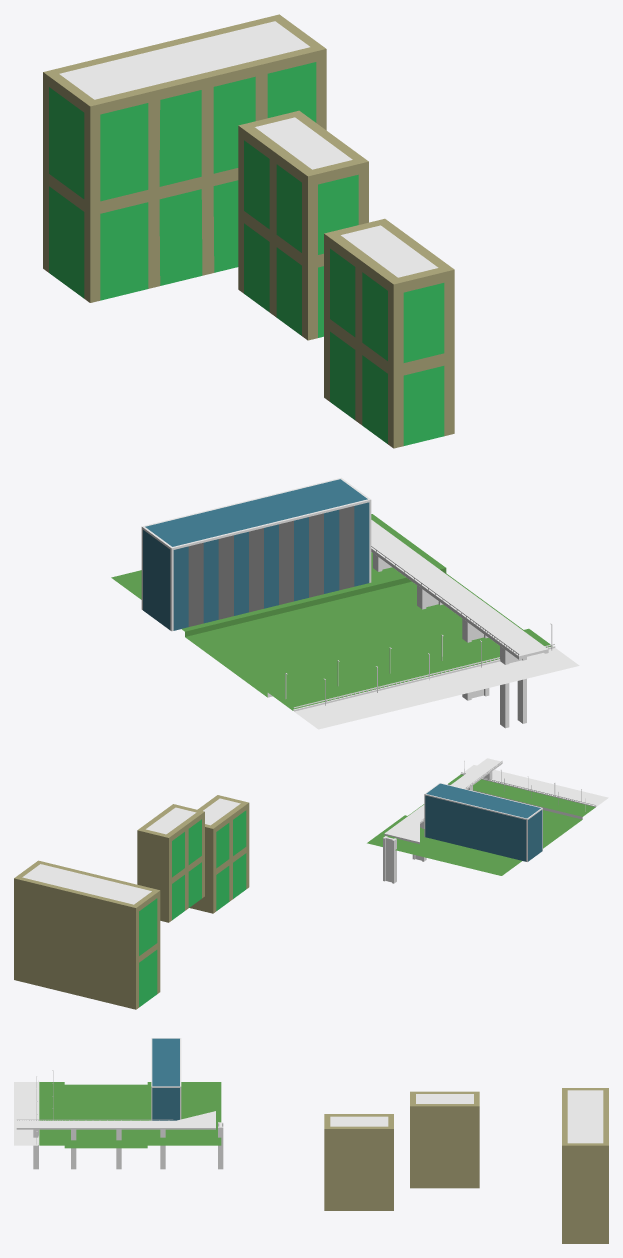
The model's file is Exterior_01_Mesh.fbx.
3 renders of one model, top to bottom at view 1: azimuth 30°, elevation 25°; view 2: azimuth 150°, elevation 25°; view 3: azimuth 270°, elevation 25°, orthographic. The views are drawn at different scales.
Visible parts, largest first — view 1: Exterior_Mesh; view 2: Exterior_Mesh; view 3: Exterior_Mesh.
Part boxes in pixels (x1,y1,x2,y2): Exterior_Mesh: [43, 14, 579, 729]; Exterior_Mesh: [14, 758, 608, 1009]; Exterior_Mesh: [14, 1038, 608, 1243].
Bounding box in the file's own units: 16454 × 6457 × 29977.
